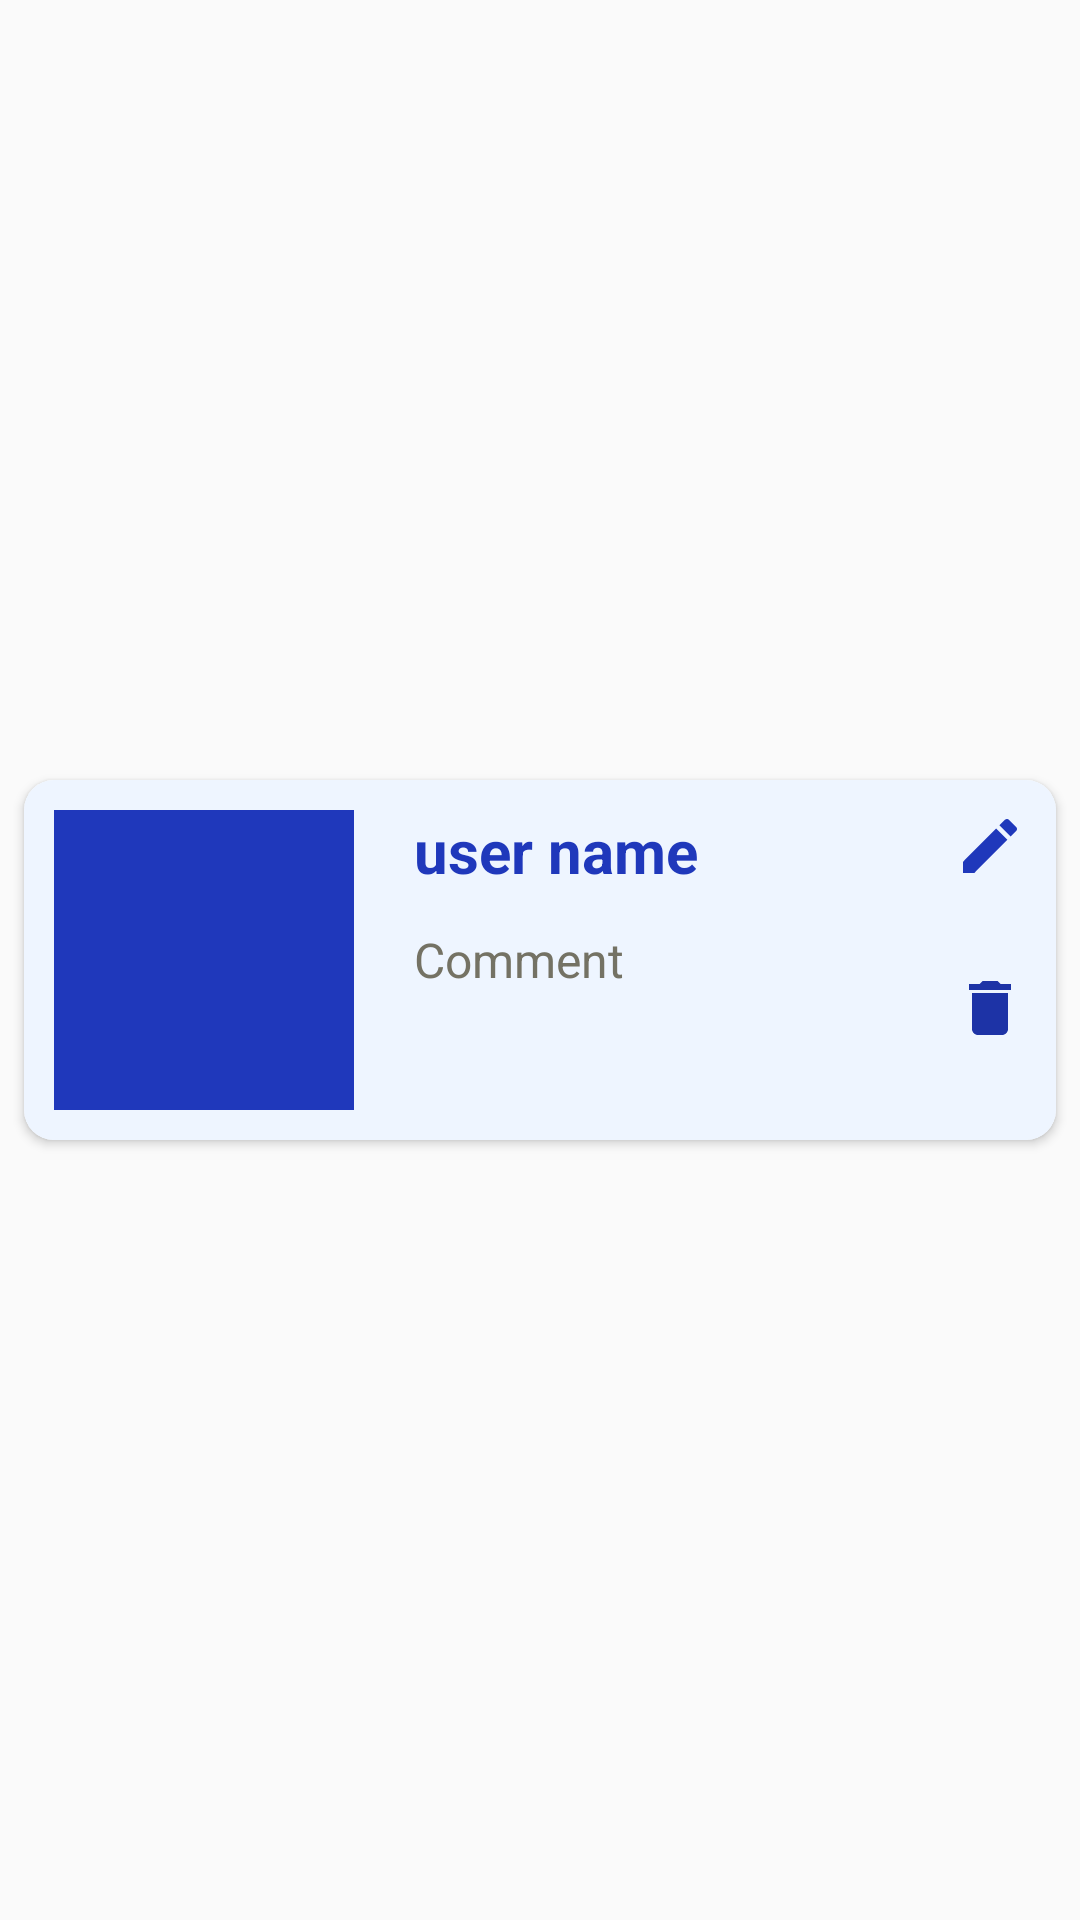

Point at icon controls on the screen. Image size 1080px x 1920px, points as (x=x, y=y).
delete: (x=990, y=1008)
edit: (x=990, y=846)
